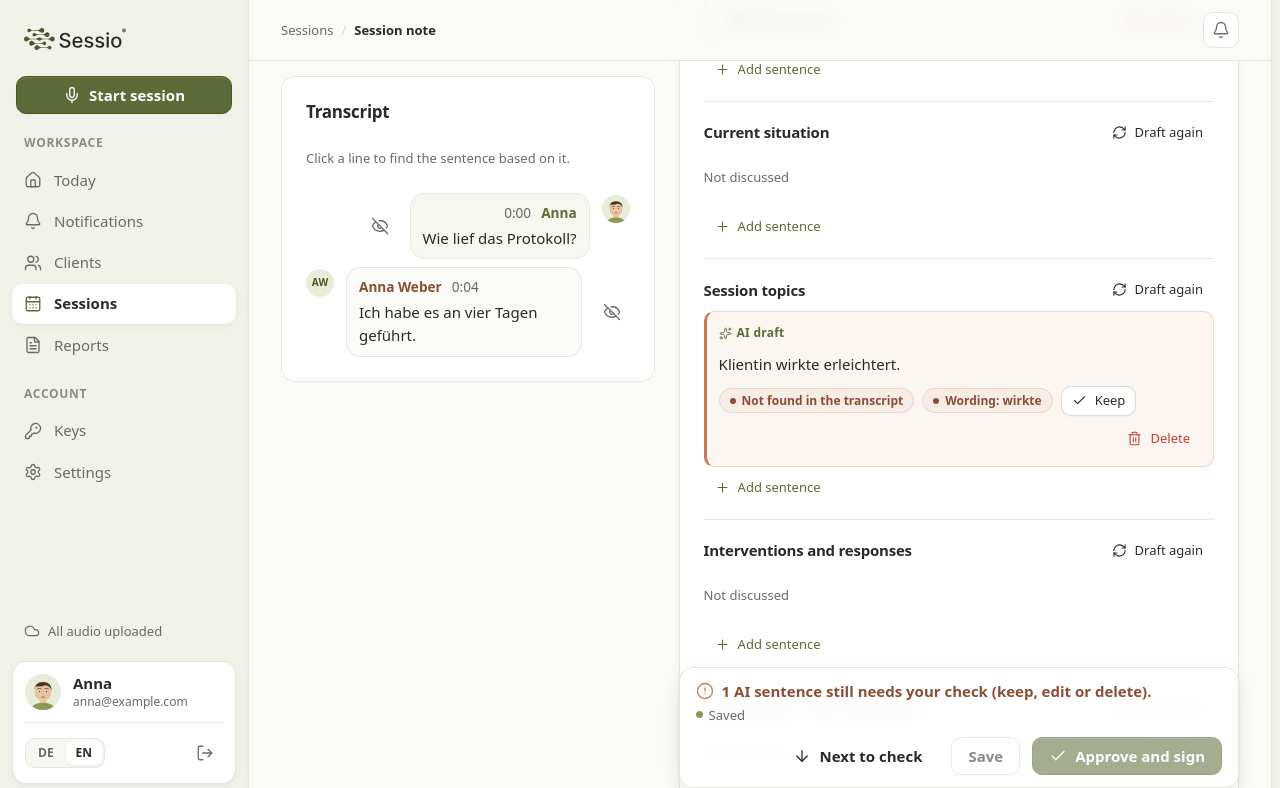
Test case: session note › blocks approval until flagged AI sentences are checked, then signs after unlocking
(page scrolled)
Expected: the text "Not found in the transcript" is shown, 719,388 -> 914,413
Expected: the text "Wording: wirkte" is shown, 922,388 -> 1053,413
Click the button "Keep": click(1098, 401) 1061,386 -> 1136,416
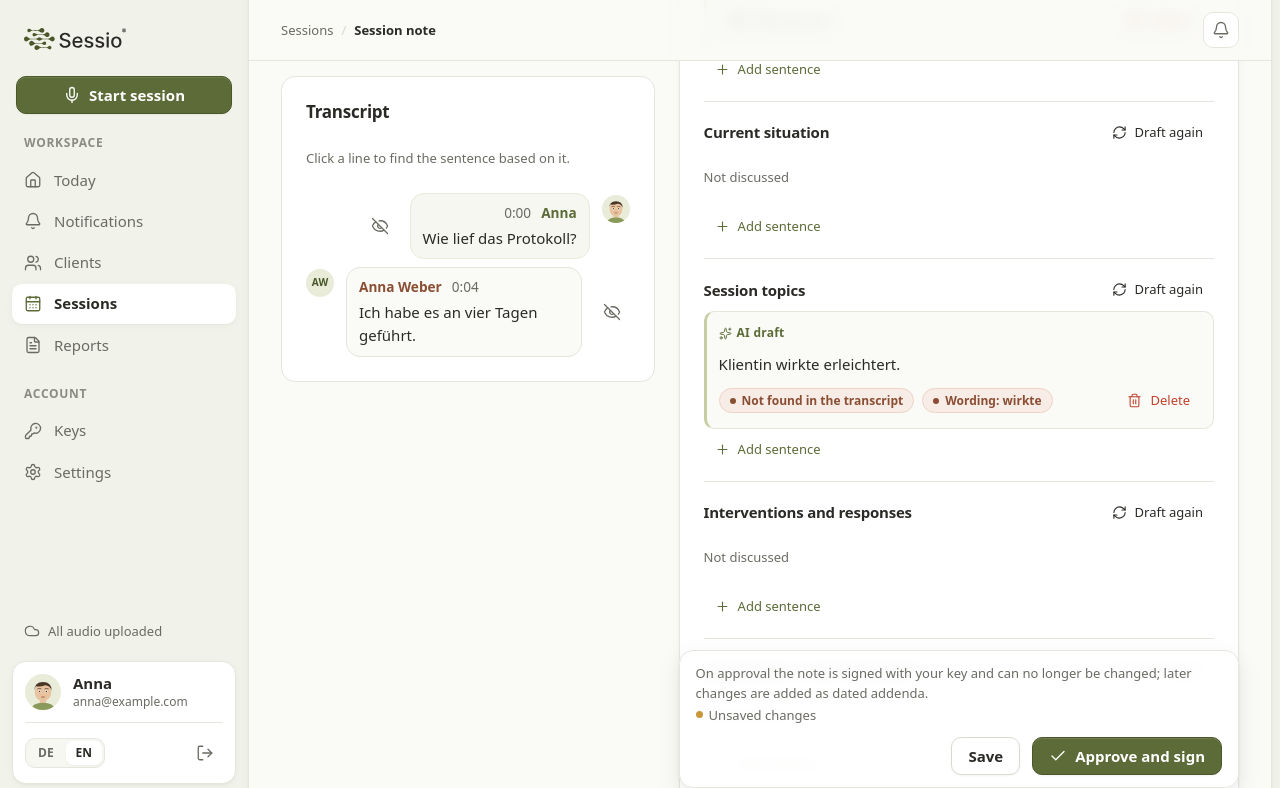
Expected: the button "Approve and sign" is enabled
Click the button "Approve and sign": click(1127, 756) 1032,737 -> 1222,775
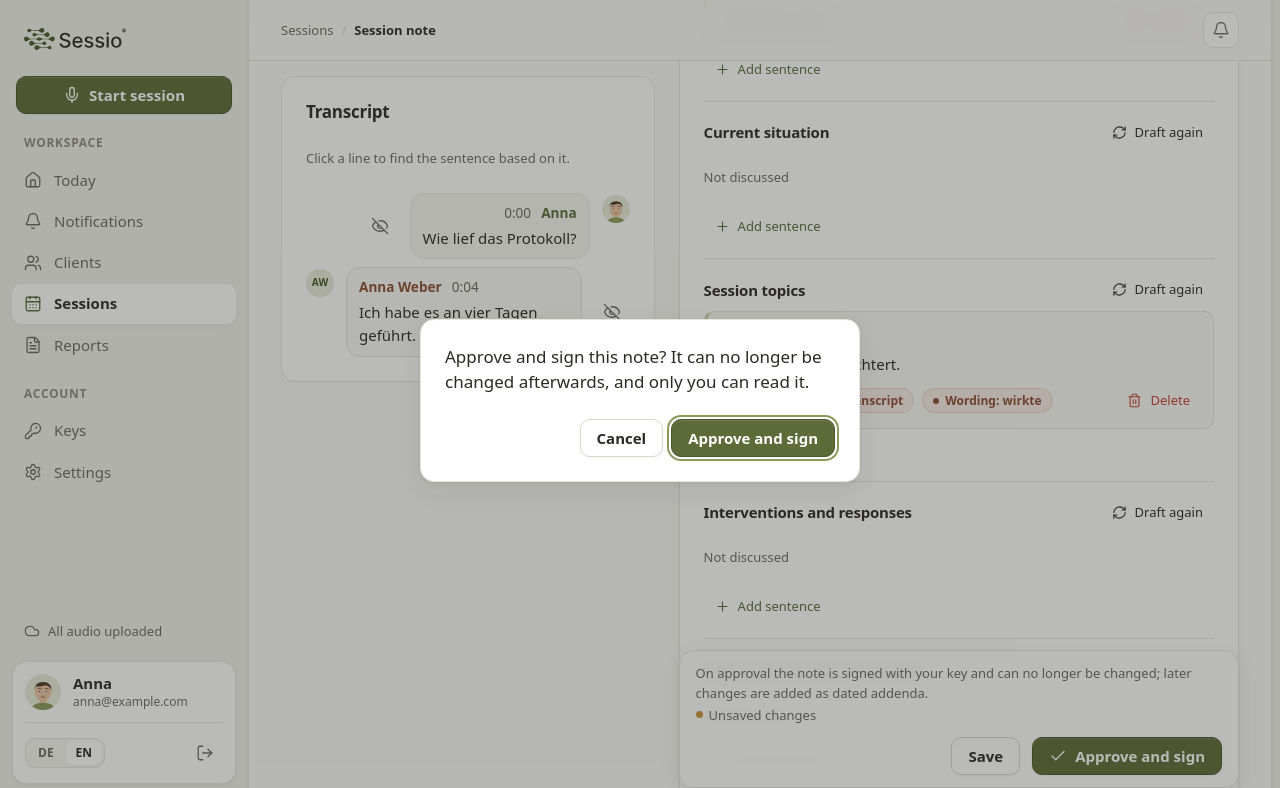
Click the button "Approve and sign": click(753, 438) 671,418 -> 835,456
(page scrolled)
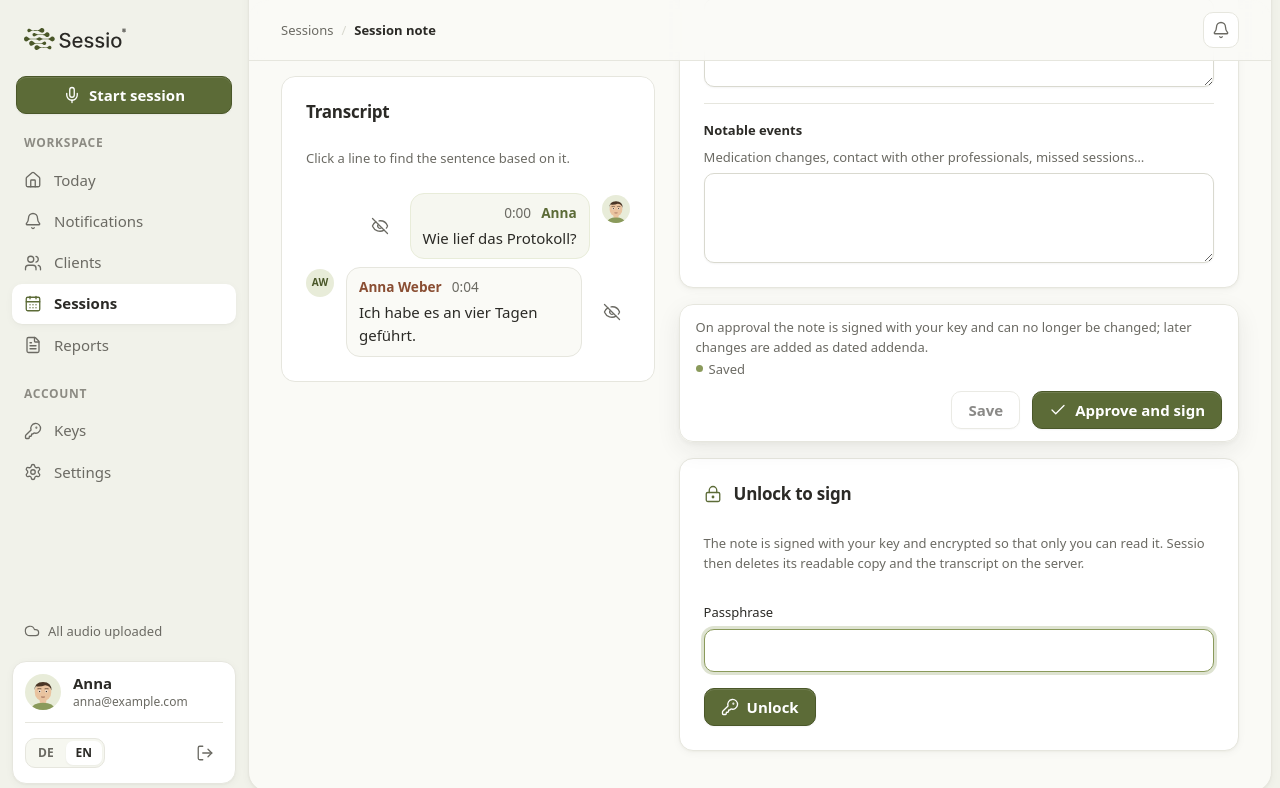
Expected: the element "Unlock to sign" is shown, 679,458 -> 1239,751
In the password field labelled "Passphrase": (959, 650) 704,629 -> 1214,672, type "olive tree quiet harbour"
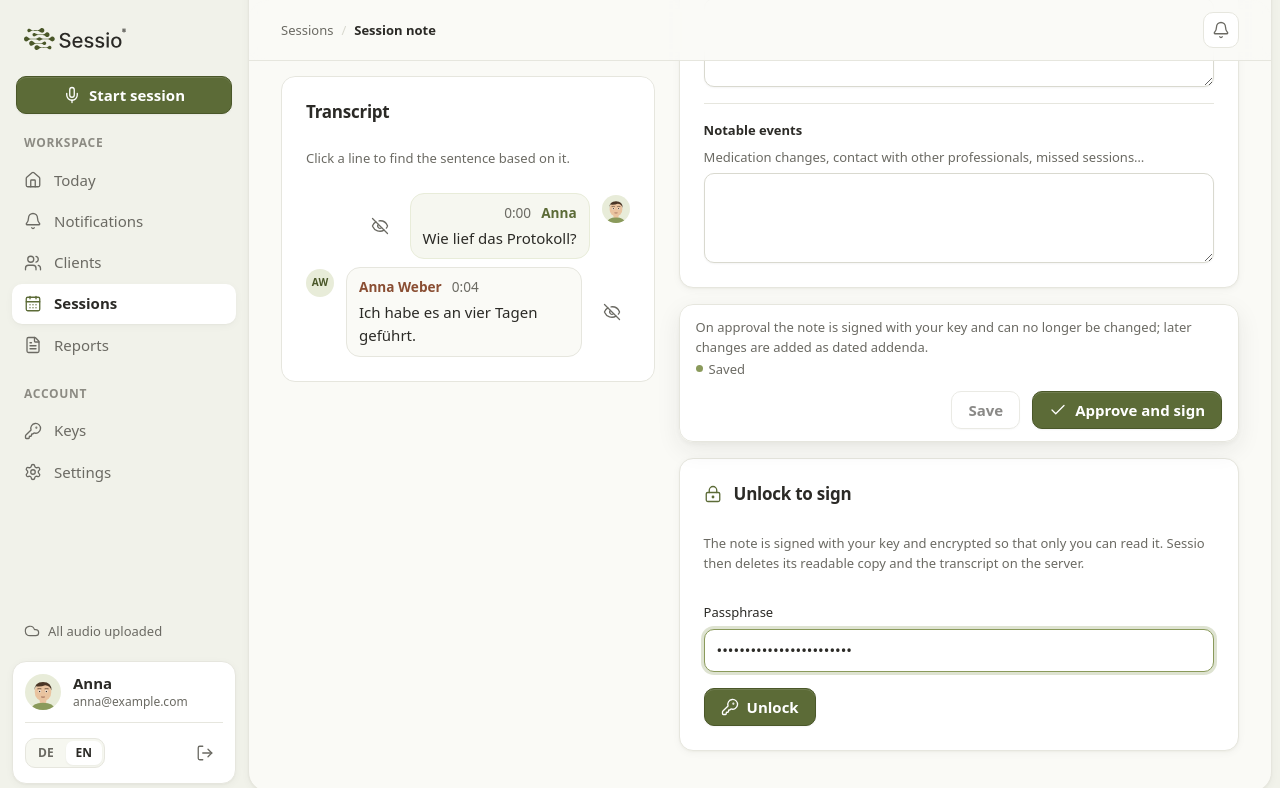
Click the button "Unlock": click(760, 707) 704,688 -> 816,726
(page scrolled)
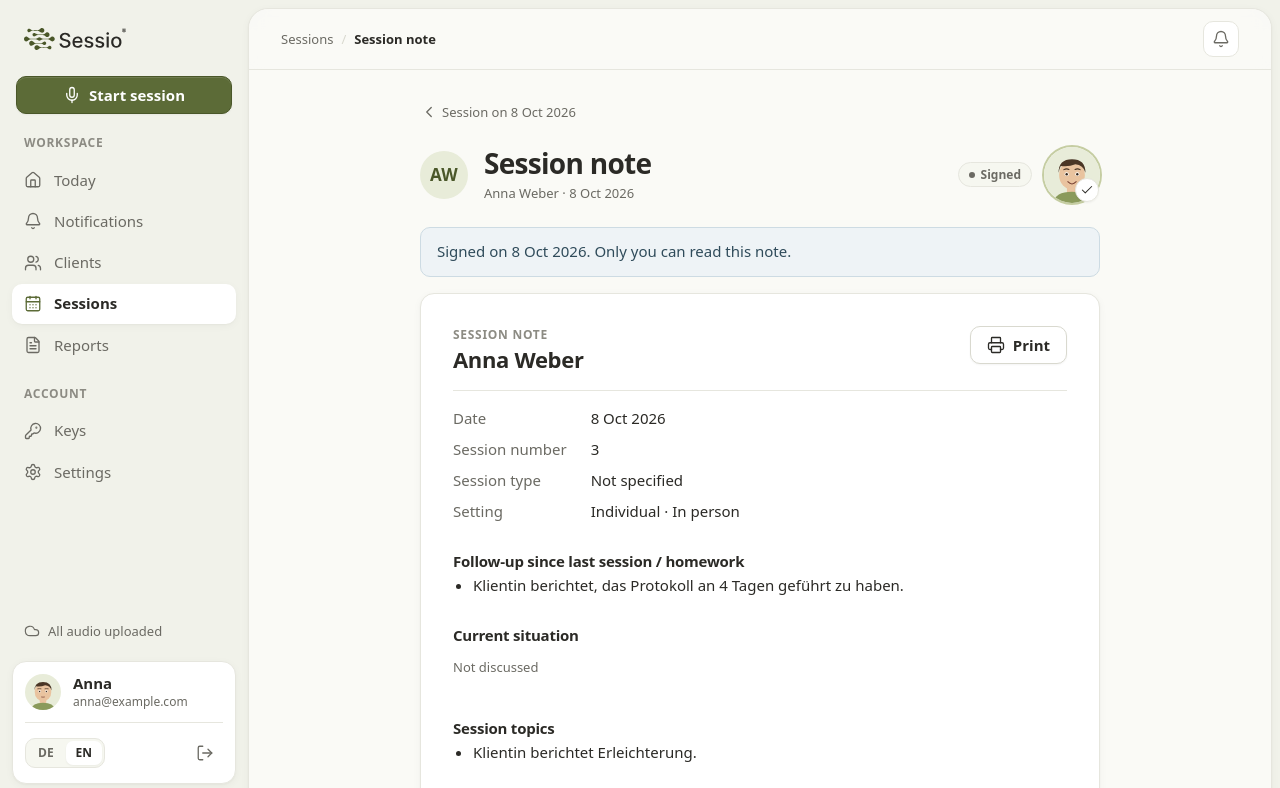
Expected: the text "Signed on 8 Oct 2026. Only you can read this note." is shown, 420,227 -> 1100,277
Expected: the list item "Klientin berichtet Erleichterung." is shown, 473,742 -> 697,762
